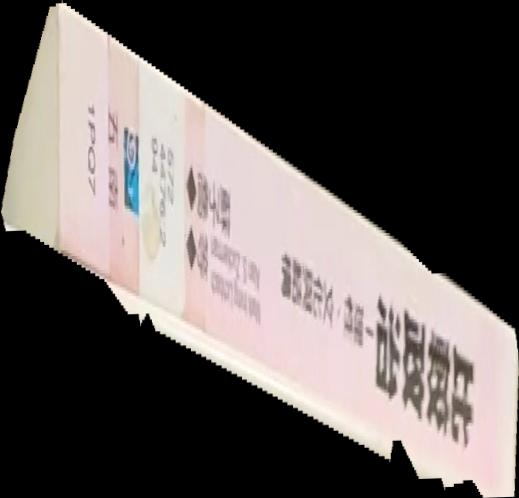flat: (1, 1, 519, 498)
